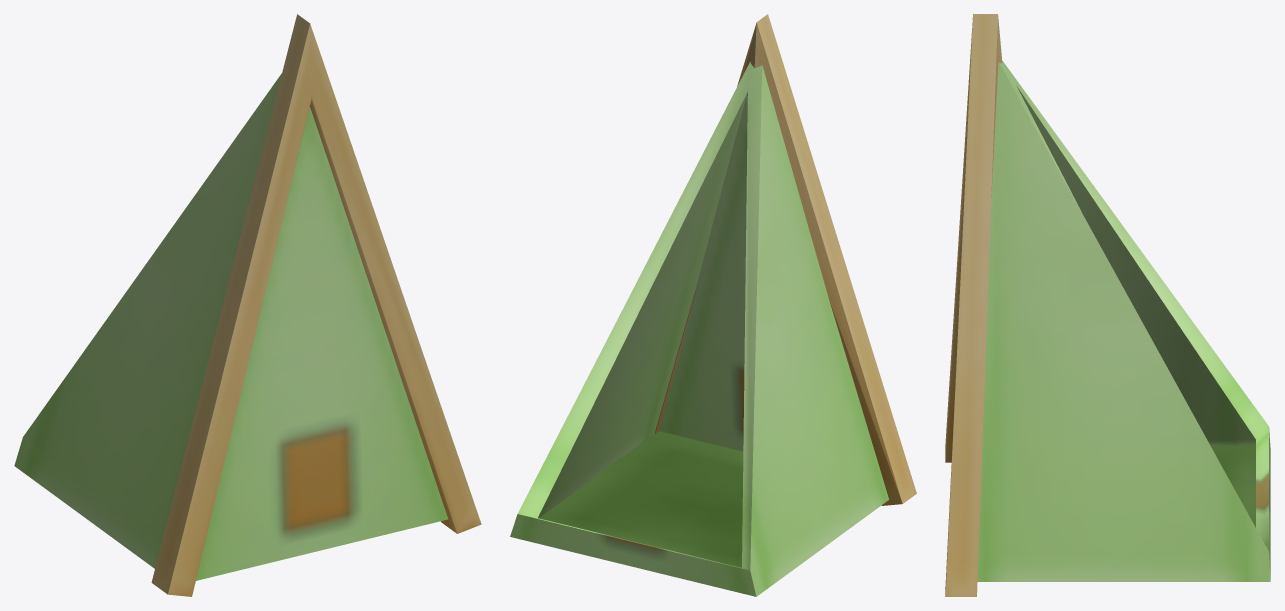
Rendered from B9Broke02.FBX.
The picture shows the model from 3 angles, left to right: view 1: azimuth 30°, elevation 25°; view 2: azimuth 150°, elevation 25°; view 3: azimuth 270°, elevation 25°; orthographic projection. The views are drawn at different scales.
Visible parts, largest first — view 1: B9Broke02; view 2: B9Broke02; view 3: B9Broke02.
Boxes of the visible parts, <box> form: B9Broke02: <box>14,14,481,596</box>; B9Broke02: <box>510,14,916,596</box>; B9Broke02: <box>945,14,1270,596</box>.
Size of the model in its own units: 29.38 by 47.65 by 27.4.
